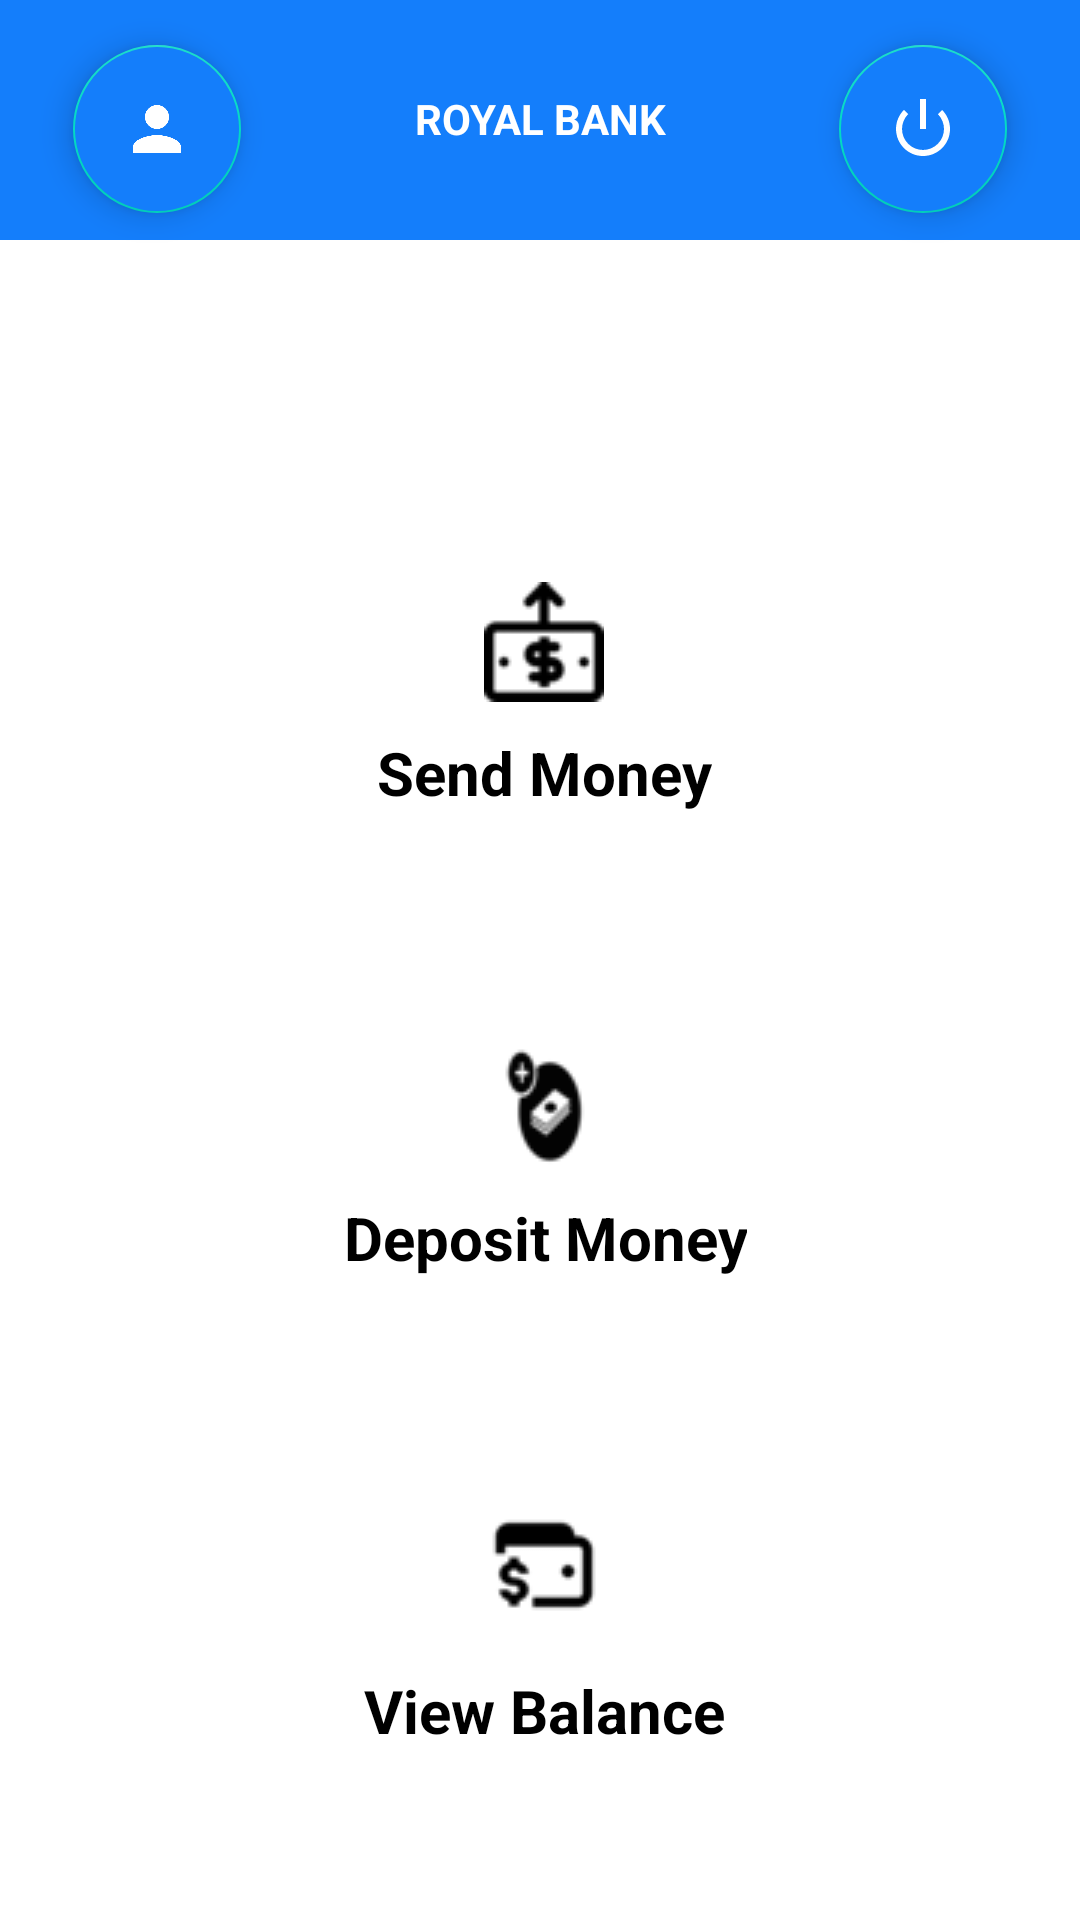

Icons on this 1080px×1920px Android screen, each with its box as region(x1, y1, x2, y2):
lock power off: region(839, 45, 1007, 213)
person: region(73, 45, 241, 213)
